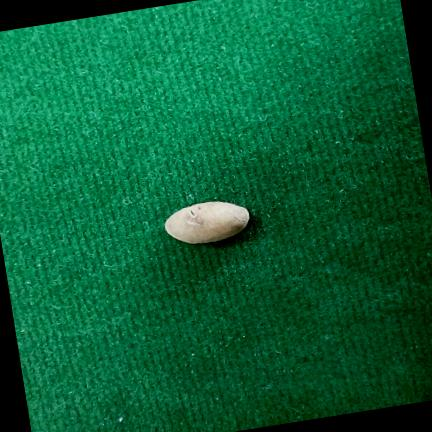shell: (166, 201, 250, 243)
